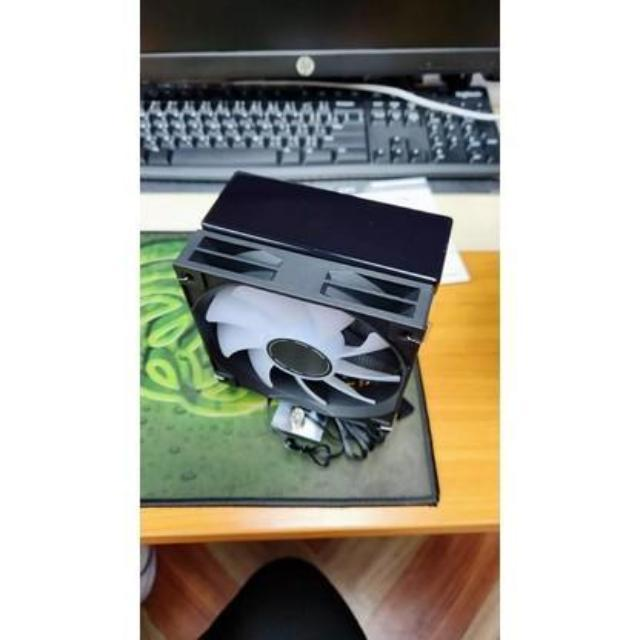CPU_Fan: (172, 162, 460, 470)
